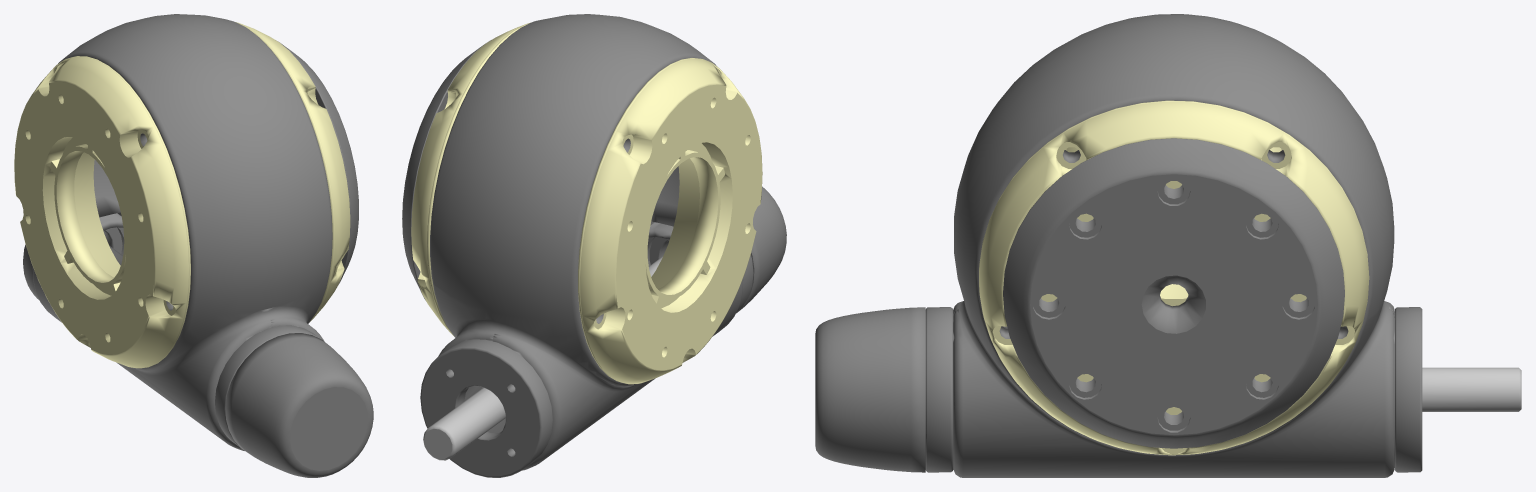
Rendered from Joint5.dae.
The picture shows the model from 3 angles, left to right: view 1: azimuth 30°, elevation 25°; view 2: azimuth 150°, elevation 25°; view 3: azimuth 270°, elevation 25°; orthographic projection. The views are drawn at different scales.
Parts seen in each view (by area): view 1: RL-A10.0114 Simplified.001; view 2: RL-A10.0114 Simplified.001; view 3: RL-A10.0114 Simplified.001.
Boxes of the visible parts, box(x1,y1,x2,y2) form: RL-A10.0114 Simplified.001: box(14, 14, 373, 477); RL-A10.0114 Simplified.001: box(402, 14, 786, 477); RL-A10.0114 Simplified.001: box(815, 14, 1521, 477).
Bounding box in the file's own units: 55 × 128 × 86.82.
